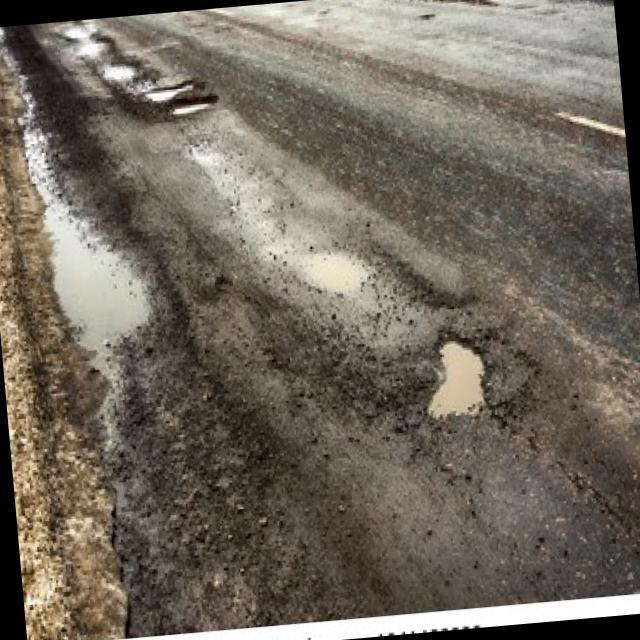Pothole: (422, 328, 492, 423), (168, 92, 220, 116), (144, 79, 196, 101)
